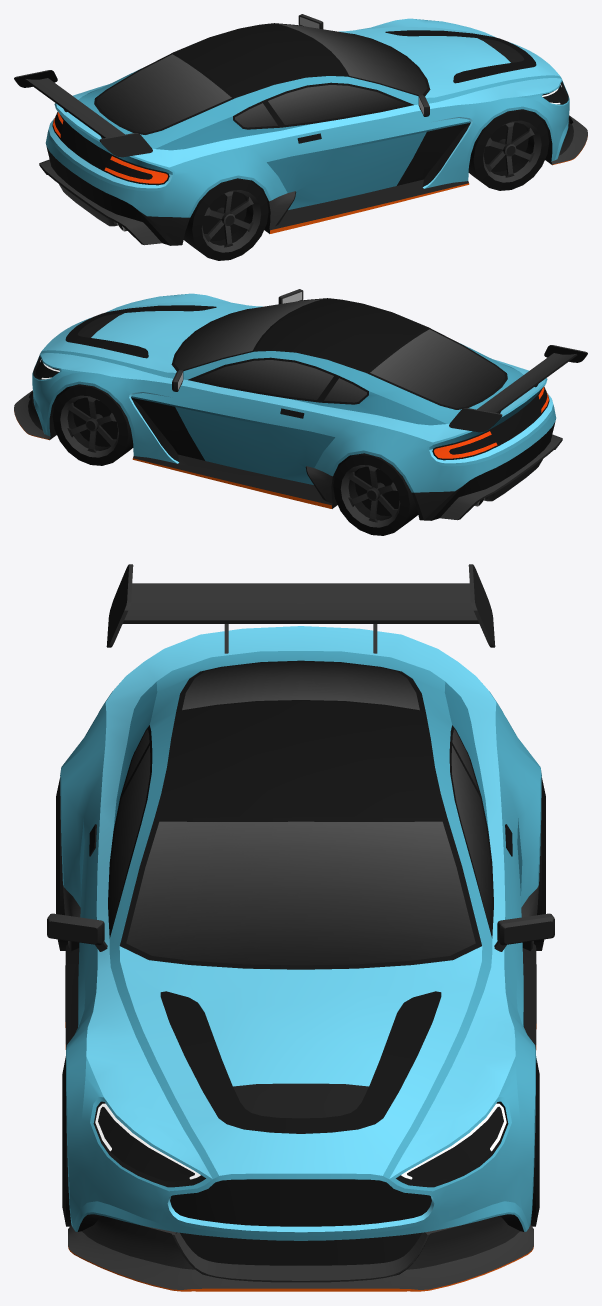
File: RaceCar_072.glb
The picture shows the model from 3 angles, top to bottom: view 1: azimuth 30°, elevation 25°; view 2: azimuth 150°, elevation 25°; view 3: azimuth 270°, elevation 25°; orthographic projection. The views are drawn at different scales.
Parts seen in each view (by area): view 1: RaceCar_072, wheel_3_RaceCar_072_Wheel_2R, wheel_1_RaceCar_072_Wheel_1R; view 2: RaceCar_072, wheel_2_RaceCar_072_Wheel_2L, wheel_0_RaceCar_072_Wheel_1L; view 3: RaceCar_072, wheel_3_RaceCar_072_Wheel_2R, wheel_2_RaceCar_072_Wheel_2L, wheel_1_RaceCar_072_Wheel_1R, wheel_0_RaceCar_072_Wheel_1L.
Boxes of the visible parts, <box> form: RaceCar_072: <box>14,14,587,245</box>; wheel_3_RaceCar_072_Wheel_2R: <box>183,178,268,260</box>; wheel_1_RaceCar_072_Wheel_1R: <box>468,109,549,190</box>; RaceCar_072: <box>14,289,587,520</box>; wheel_2_RaceCar_072_Wheel_2L: <box>333,453,418,535</box>; wheel_0_RaceCar_072_Wheel_1L: <box>52,384,133,465</box>; RaceCar_072: <box>47,564,554,1291</box>; wheel_3_RaceCar_072_Wheel_2R: <box>56,777,68,950</box>; wheel_2_RaceCar_072_Wheel_2L: <box>534,777,545,950</box>; wheel_1_RaceCar_072_Wheel_1R: <box>62,1056,71,1226</box>; wheel_0_RaceCar_072_Wheel_1L: <box>530,1058,539,1226</box>.
Size of the model in its own units: 4.63 by 1.26 by 2.04.
2 materials, 2 textured.
